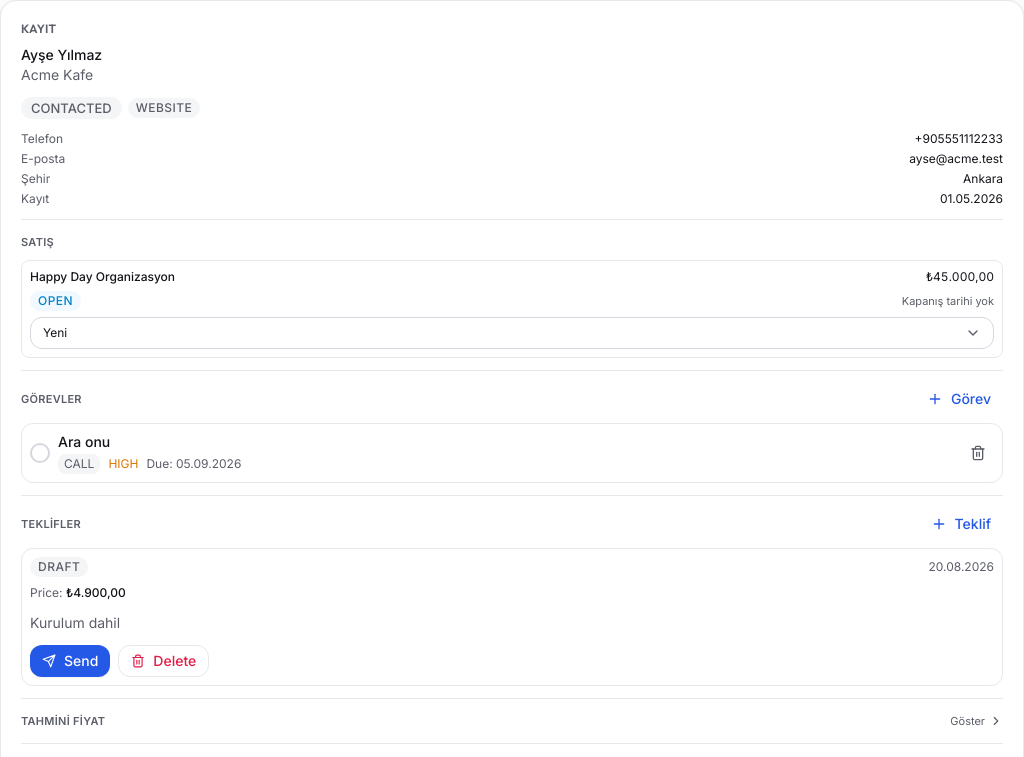
Test case: LeadContextPane — a broken section names itself and stands alone › names Tahmini fiyat when its read fails, without touching Randevular
This screenshot has width=1024, height=757.
Step 1. Click the button "Tahmini fiyat Göster" → [63, 721], box [21,711,1003,731]
(page scrolled)
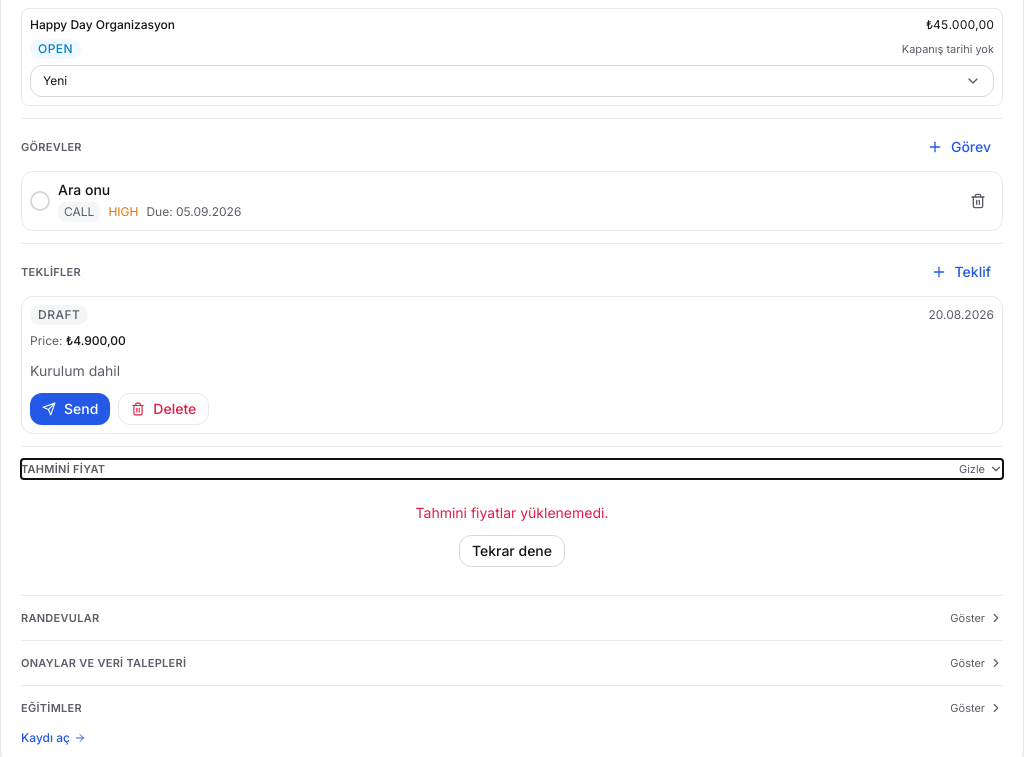
Expected: the text "Tahmini fiyatlar yüklenemedi." is shown, [416,503,608,523]
Note: The neighbour still opens and still works.
Step 2. Click the button "Randevular Göster" → [60, 618], box [21,608,1003,628]
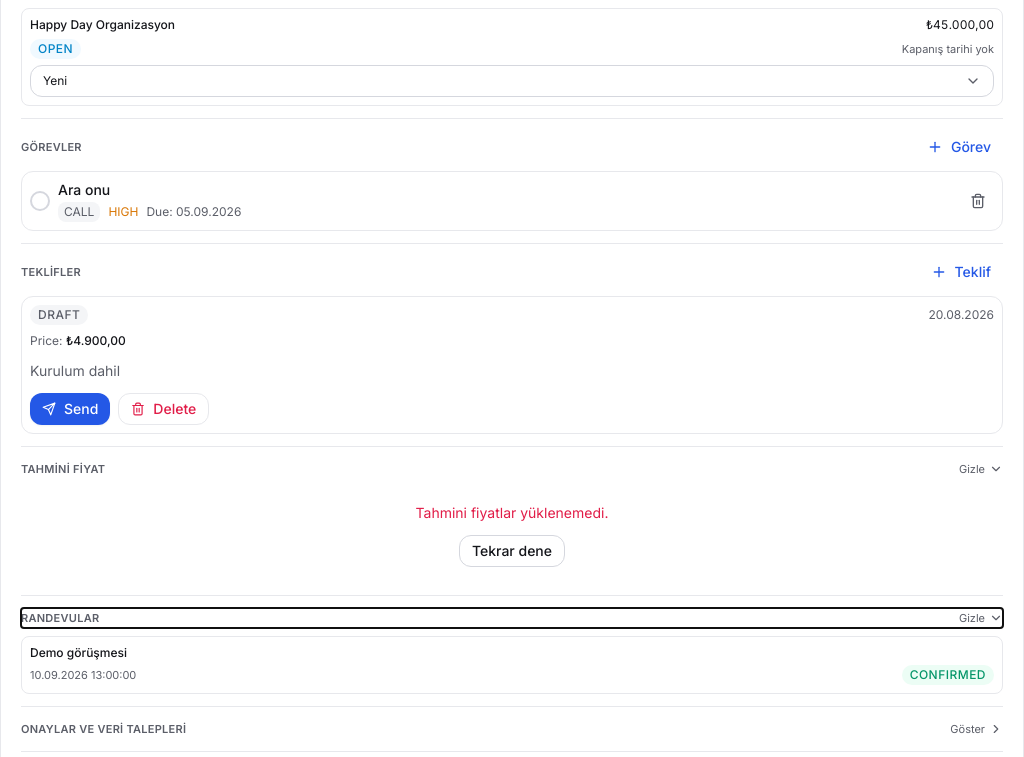
Expected: the text "Demo görüşmesi" is shown, [30,645,127,660]
